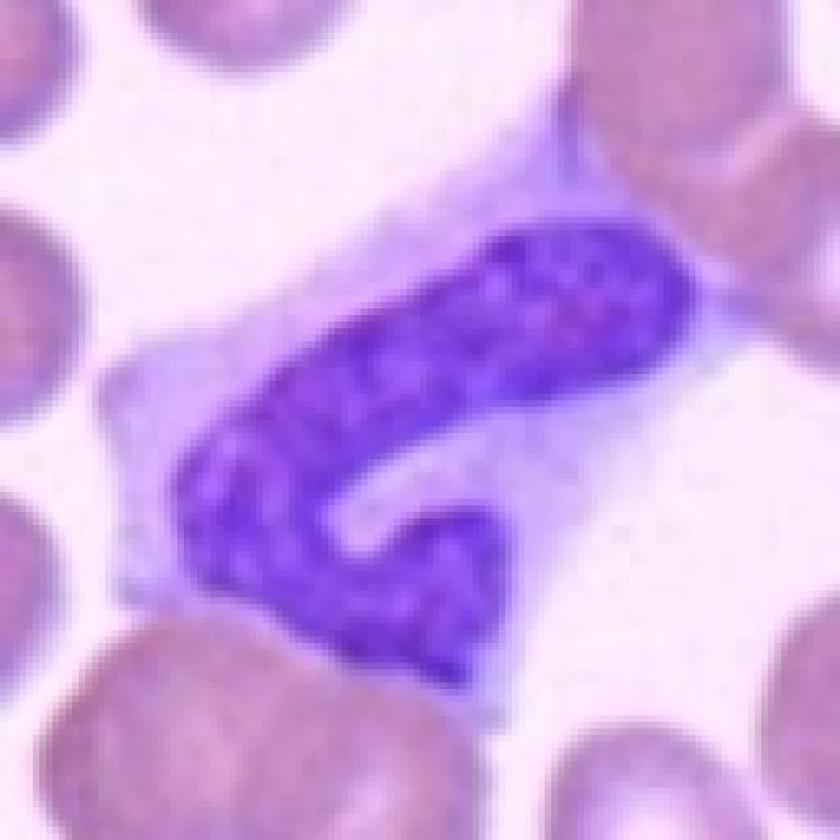neutrophil: (98, 75, 743, 732)
